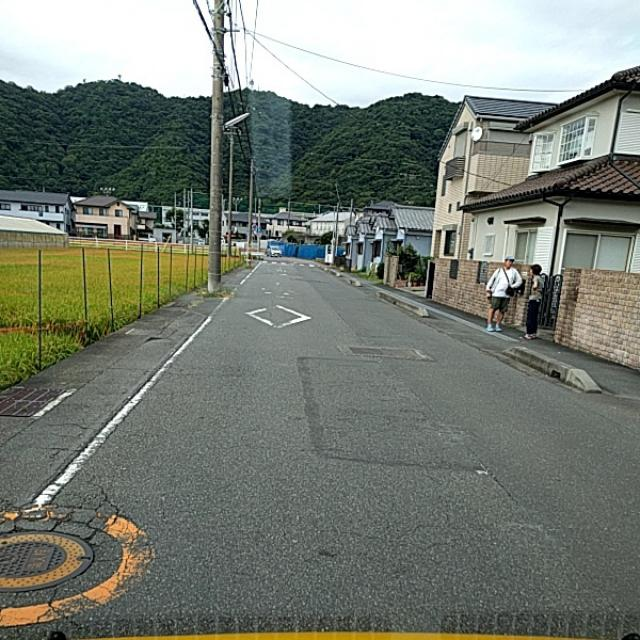pothole: (17, 461, 128, 554)
